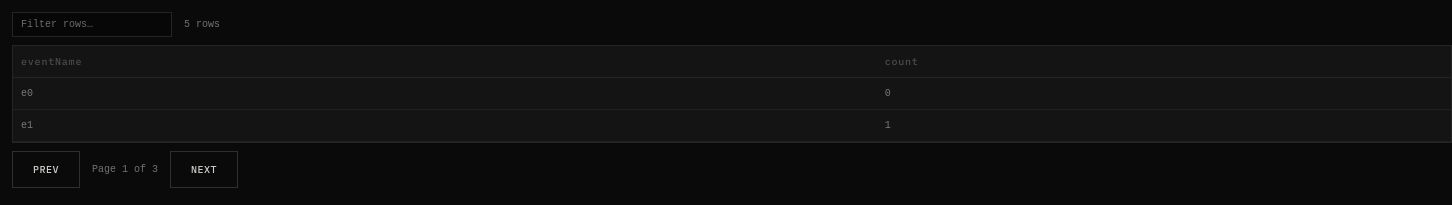
ExploreResultsTable (EXP.7 — sortable, filterable, paginated table) › paginates beyond the page size
Expected: the text "Page 1 of 3" is shown, left=92, top=162, right=158, bottom=177
Expected: the text "e0" is shown, left=13, top=78, right=877, bottom=110
What coordinates should you click on to do the following:
click the button "Next"
I would click on:
 (204, 170)
Its box is left=170, top=151, right=238, bottom=188.
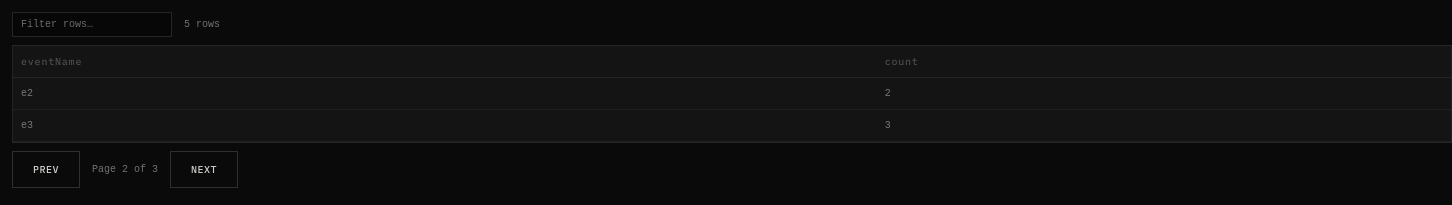
Expected: the text "Page 2 of 3" is shown, left=92, top=162, right=158, bottom=177
Expected: the text "e2" is shown, left=13, top=78, right=877, bottom=110
What coordinates should you click on to do the following:
click the button "Prev"
I would click on:
 (46, 170)
Its box is left=12, top=151, right=80, bottom=188.
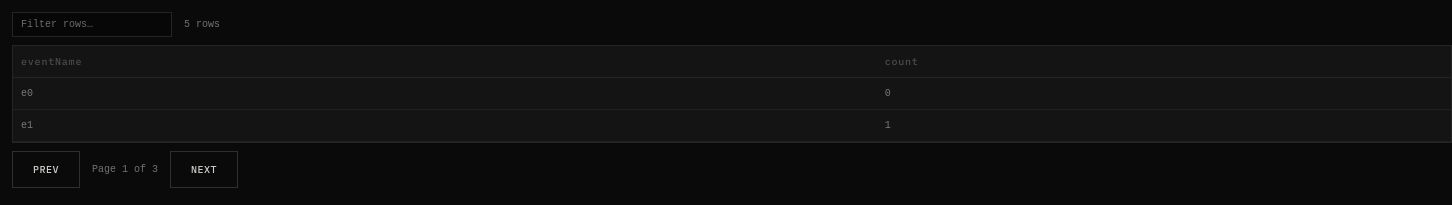
Expected: the text "Page 1 of 3" is shown, left=92, top=162, right=158, bottom=177
